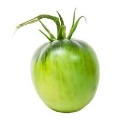tomato: (31, 39, 101, 112)
